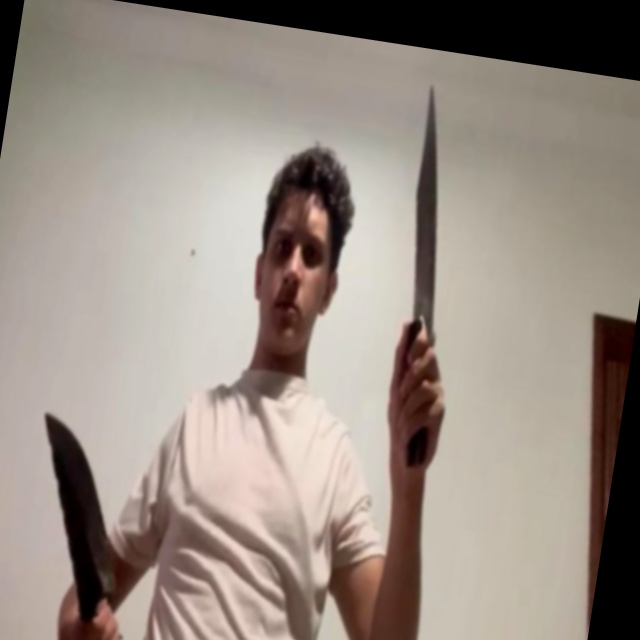Sharp-Object: (19, 409, 142, 599), (390, 84, 470, 336)
